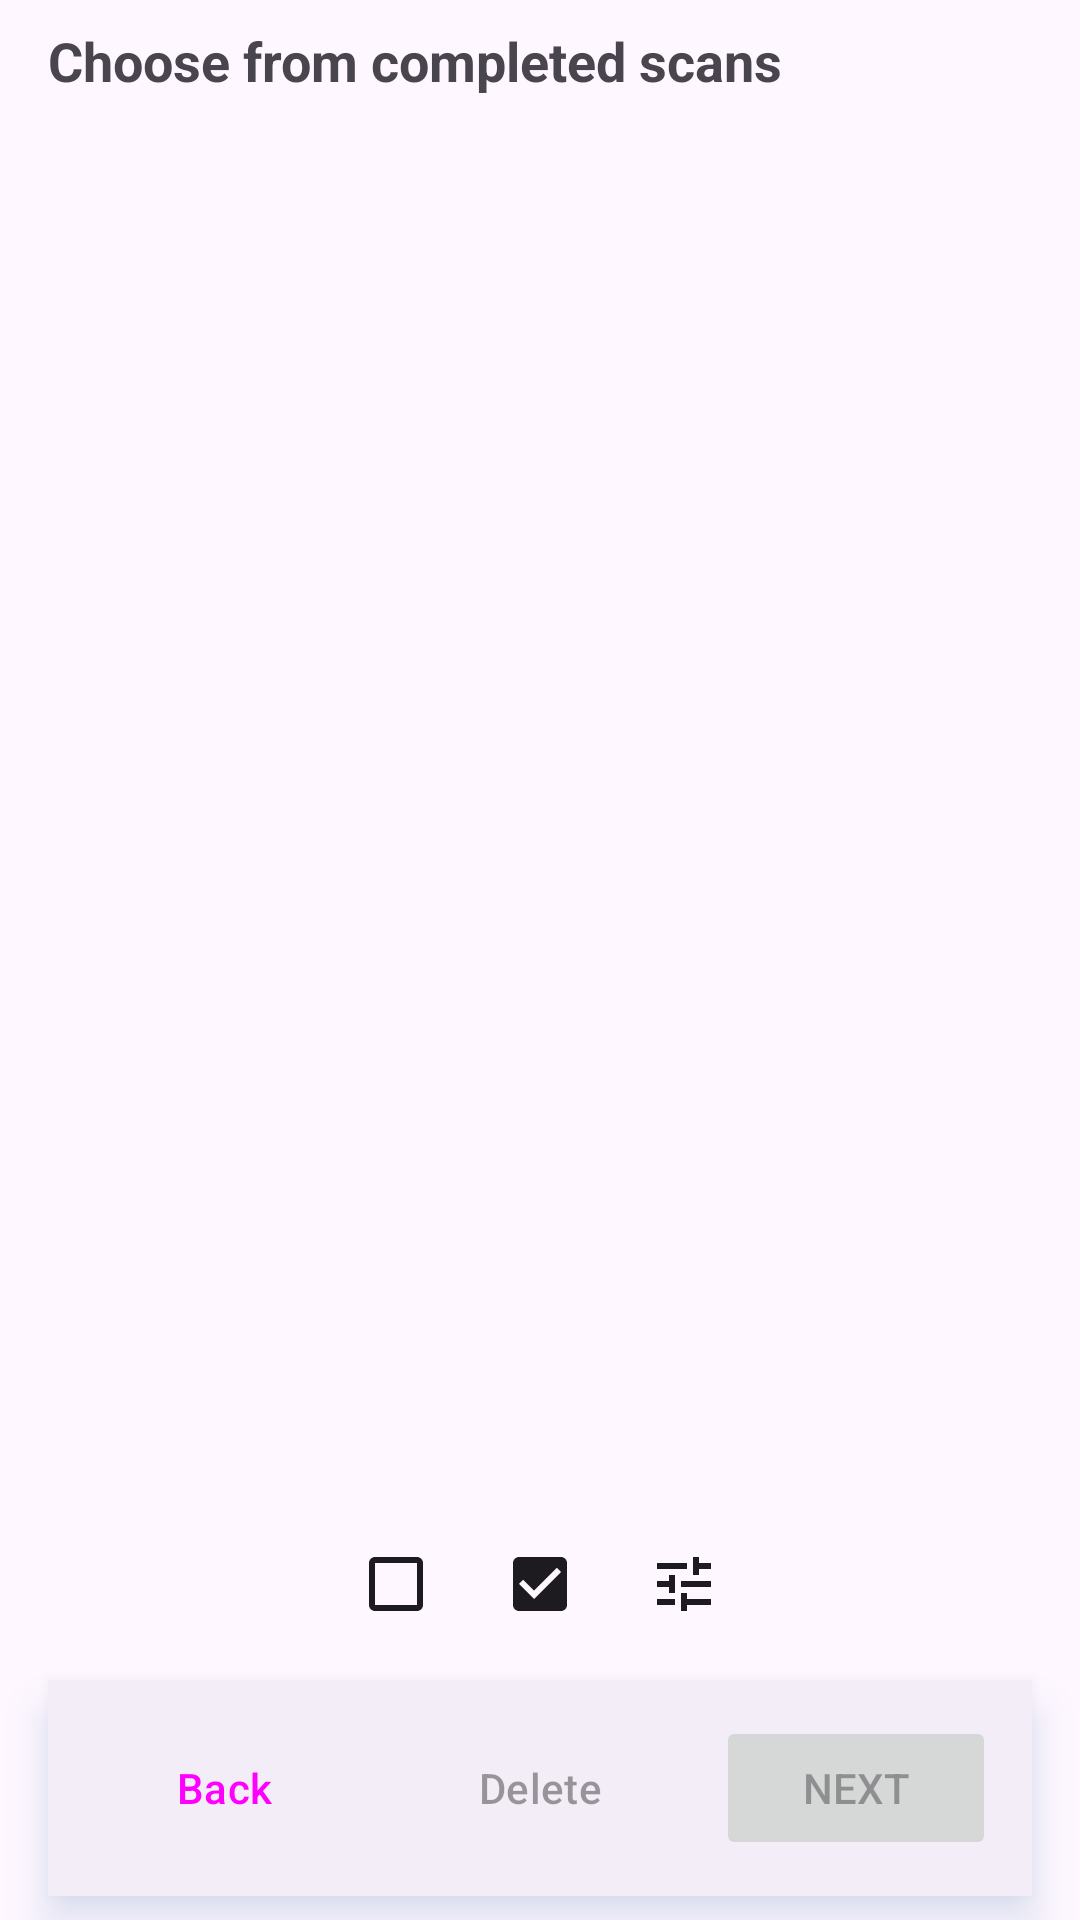

Named icons in this screenshot (1080 × 1920) and their bounding boxes, rect(x1, y1, x2, y2):
Completed Scan cleanup settings: rect(657, 1557, 711, 1611)
Deselect all: rect(369, 1557, 423, 1611)
Select all: rect(513, 1557, 567, 1611)
